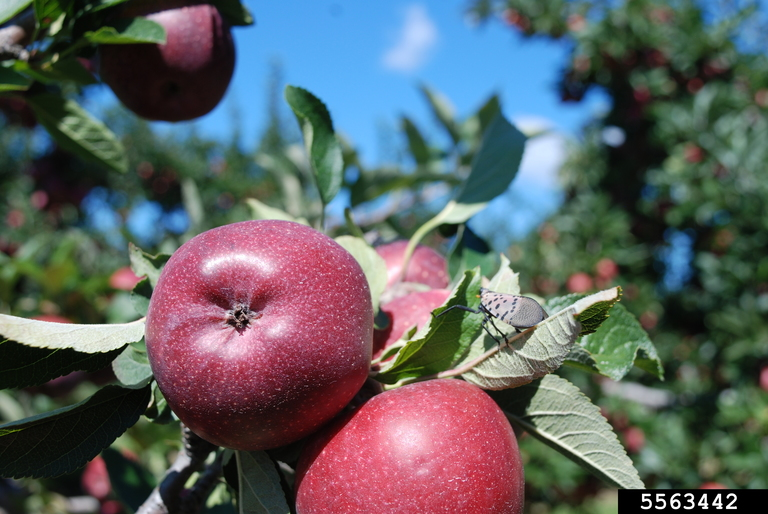adult: (462, 272, 563, 354)
